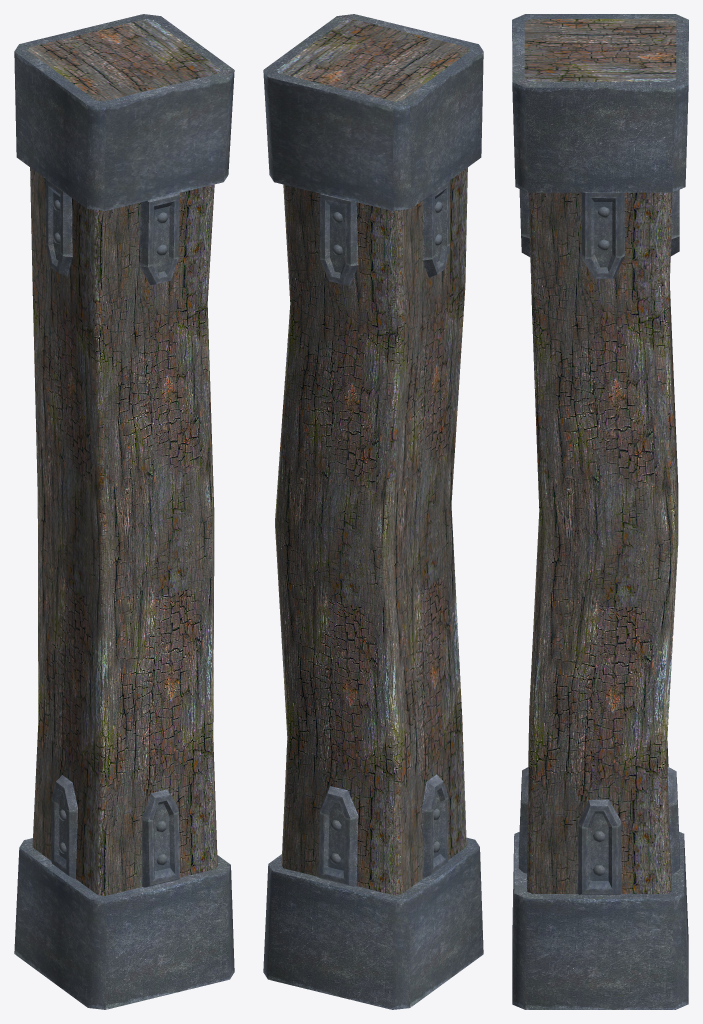
The model's file is Wood_1Pole.FBX.
3 renders of one model, left to right at view 1: azimuth 30°, elevation 25°; view 2: azimuth 150°, elevation 25°; view 3: azimuth 270°, elevation 25°, orthographic. The views are drawn at different scales.
Parts seen in each view (by area): view 1: Box01; view 2: Box01; view 3: Box01.
Part boxes in pixels (bbox=[...]): Box01: bbox=[14, 14, 234, 1009]; Box01: bbox=[263, 14, 483, 1009]; Box01: bbox=[512, 14, 688, 1009].
Size of the model in its own units: 75.96 by 447 by 77.48.
2 materials, 2 textured.
